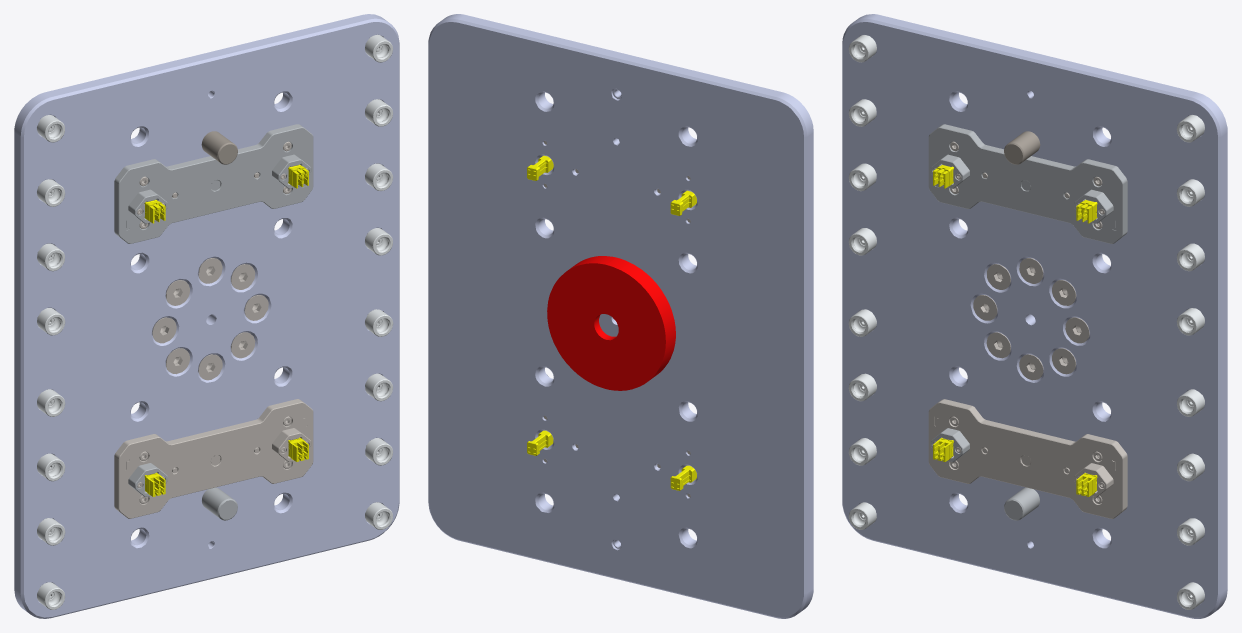
The model's file is imm-insert-table.glb.
The picture shows the model from 3 angles, left to right: view 1: azimuth 30°, elevation 25°; view 2: azimuth 150°, elevation 25°; view 3: azimuth 330°, elevation 25°; orthographic projection.
Parts seen in each view (by area): view 1: insert-table-top_mesh; view 2: insert-table-top_mesh; view 3: insert-table-top_mesh.
Part boxes in pixels (x1,y1,x2,y2): insert-table-top_mesh: (14,14,399,618); insert-table-top_mesh: (428,14,813,618); insert-table-top_mesh: (842,14,1227,618).
Bounding box in the file's own units: 370 × 486 × 70.01.
